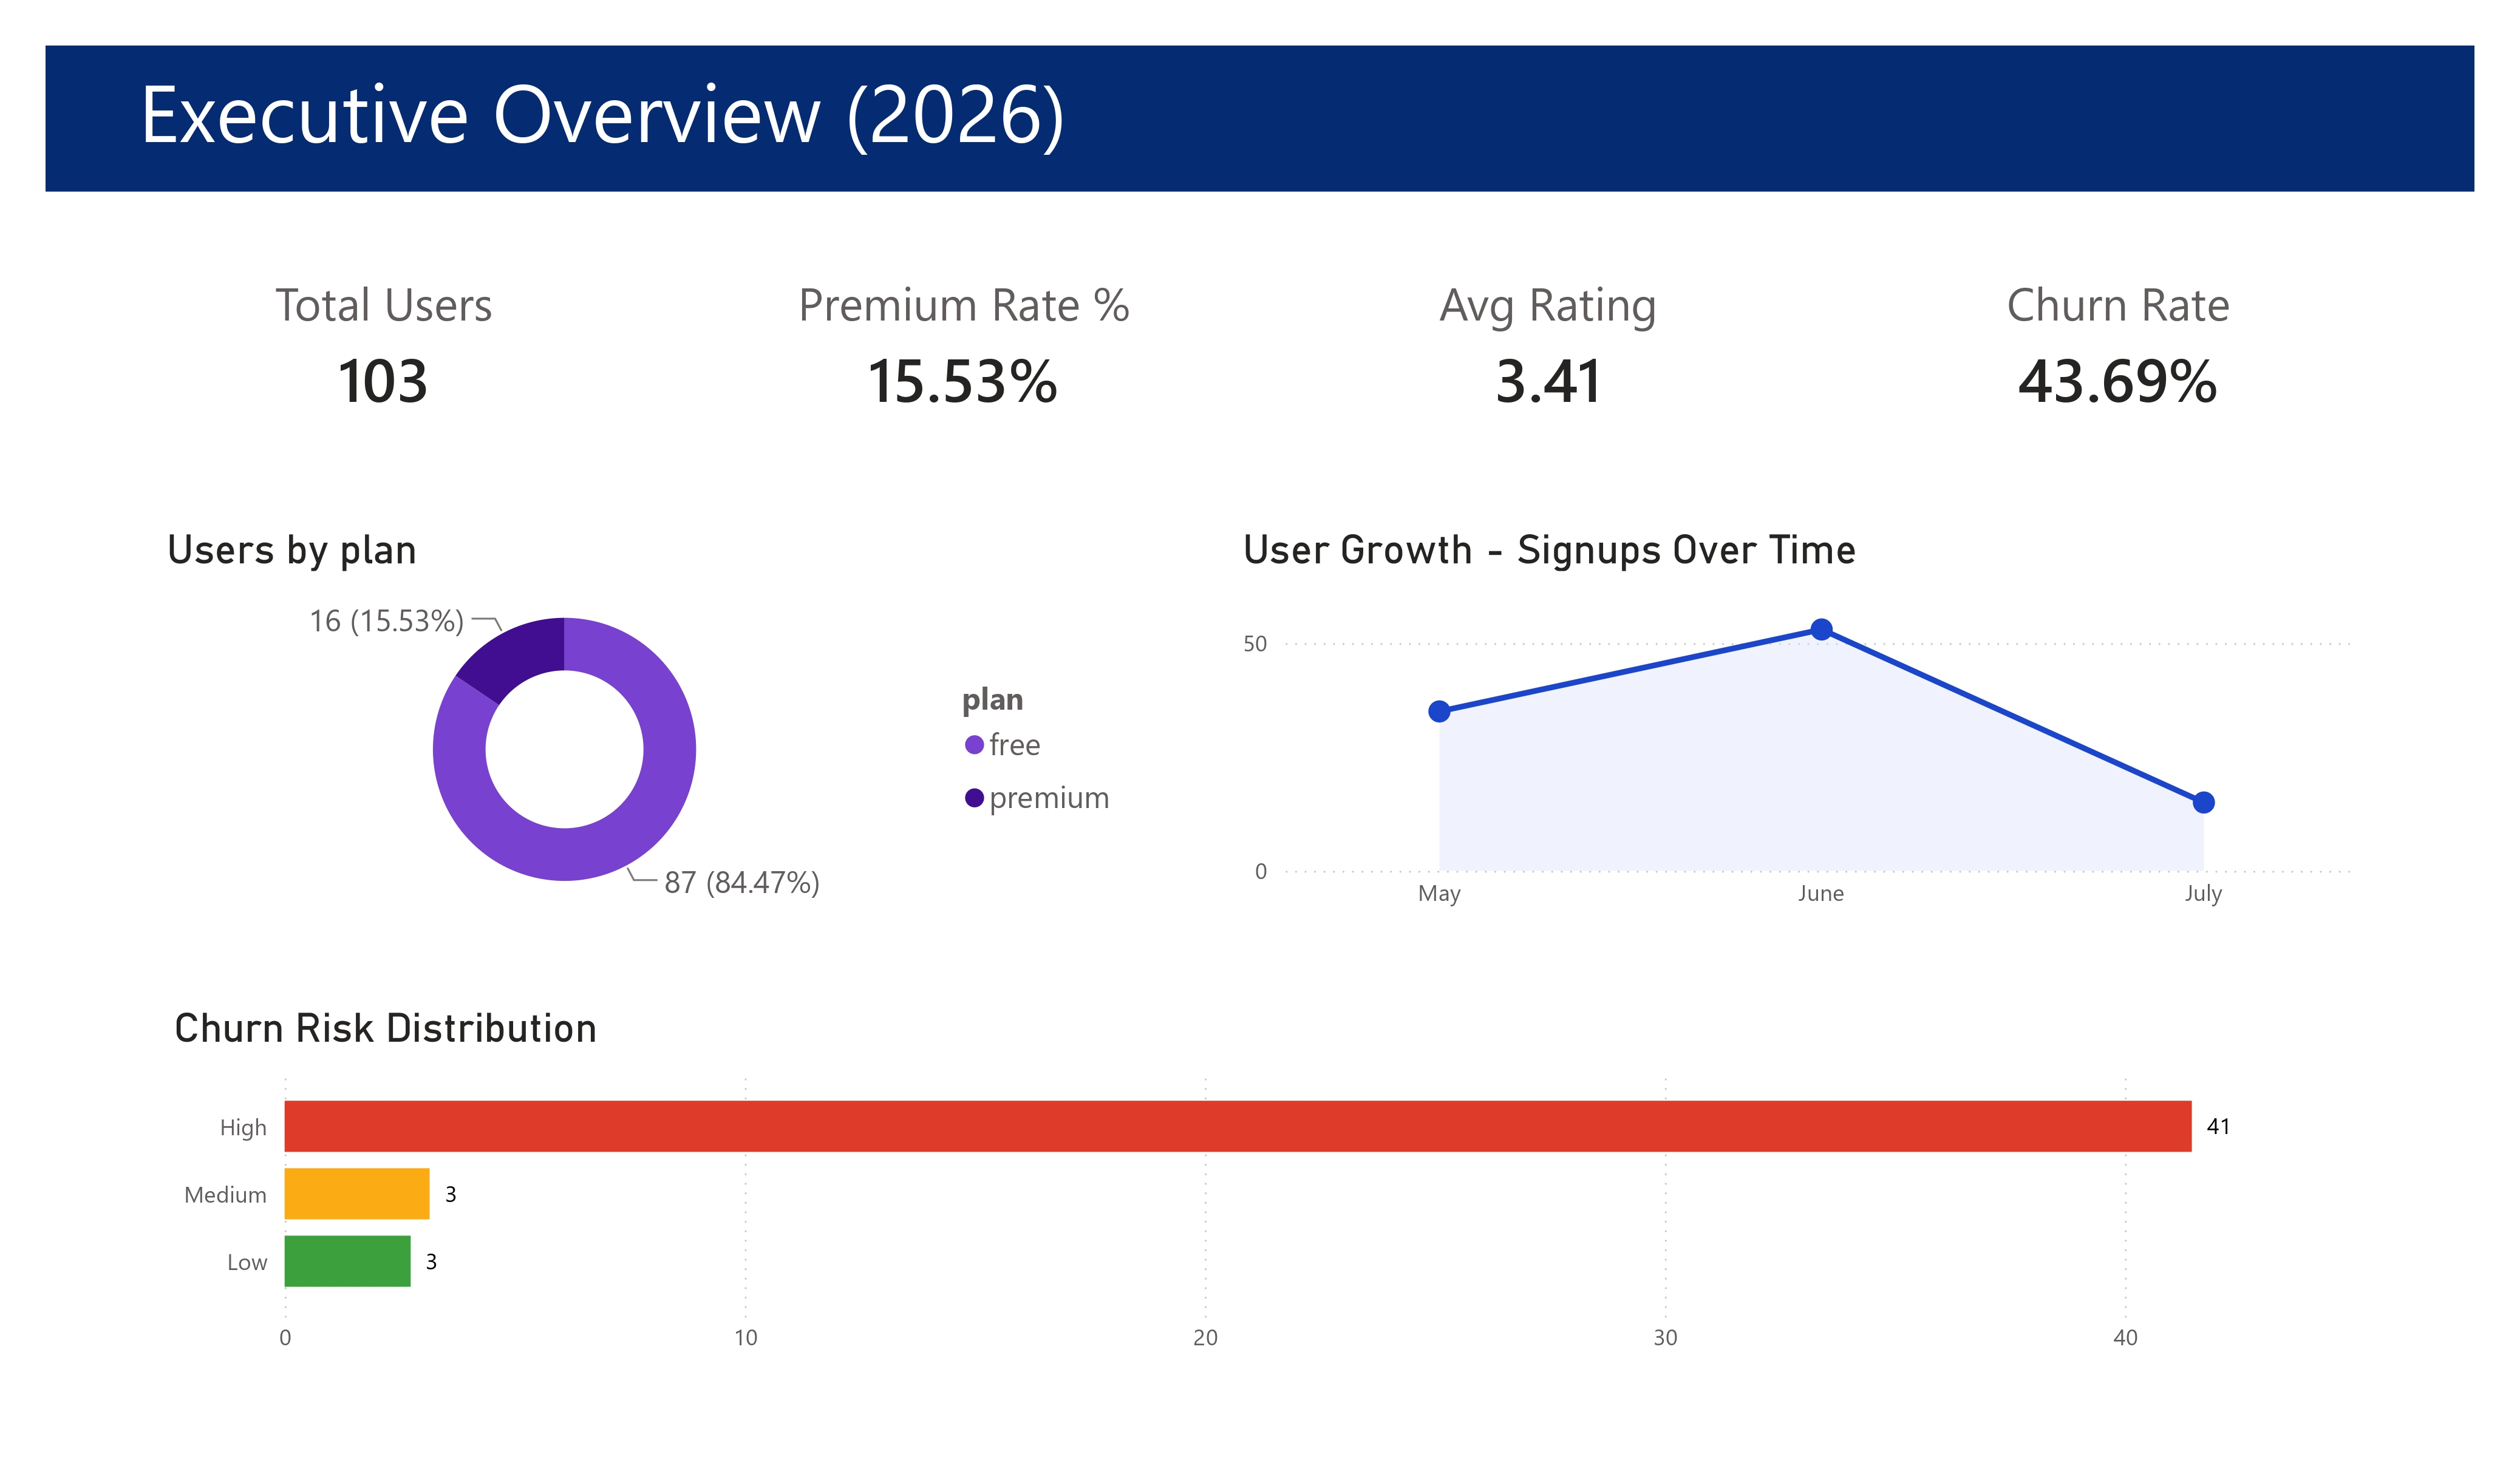

What the dashboard file says about the page in this screenshot:
{"tool":"powerbi","page":{"name":" Executive Overview","canvas":[1280,720],"ordinal":0},"visuals":[{"type":"cardVisual","fields":{"Data":["users.Total Users"]},"box":[50.8,91.9,255.2,130.4],"z":0},{"type":"textbox","box":[0,0,1280.3,76.8],"z":1000},{"type":"cardVisual","fields":{"Data":["users.Premium Rate %"]},"box":[348.5,91.9,270.3,130.4],"z":2000},{"type":"cardVisual","fields":{"Data":["users.Avg Rating"]},"box":[658.7,91.9,266.2,130.4],"z":3000},{"type":"cardVisual","fields":{"Data":["users.Churn Rate %"]},"box":[955.1,91.9,274.4,130.4],"z":4000},{"type":"donutChart","title":"Users by plan","fields":{"Category":["users.plan"],"Y":["users.Total Users"]},"box":[52.1,245.6,531,226.4],"z":5000},{"type":"areaChart","title":"User Growth - Signups Over Time","fields":{"Category":["users.created_at.Variation.Date Hierarchy.Month"],"Y":["users.Total Users"]},"box":[618.9,245.6,610.6,226.4],"z":6000},{"type":"clusteredBarChart","title":"Churn Risk Distribution","fields":{"Category":["churn_scores.churn_risk"],"Y":["Sum(churn_scores.churn_probability)"]},"box":[52.1,488.5,1177.4,211.3],"z":7000}]}

Visuals, with their boxes on the page's 1280x720 design canvas (x1, y1, x2, y2). These are canvas units, not pixel positions in the 2520x1457 screenshot, which may show the page scaled, cropped or inside an application window:
cardVisual - users.Total Users: region(51, 92, 306, 222)
textbox: region(0, 0, 1280, 77)
cardVisual - users.Premium Rate %: region(348, 92, 619, 222)
cardVisual - users.Avg Rating: region(659, 92, 925, 222)
cardVisual - users.Churn Rate %: region(955, 92, 1230, 222)
"Users by plan" donutChart: region(52, 246, 583, 472)
"User Growth - Signups Over Time" areaChart: region(619, 246, 1230, 472)
"Churn Risk Distribution" clusteredBarChart: region(52, 488, 1230, 700)
